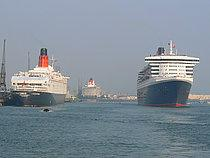Ship: (11, 51, 71, 109), (130, 56, 195, 109), (81, 77, 104, 106)
